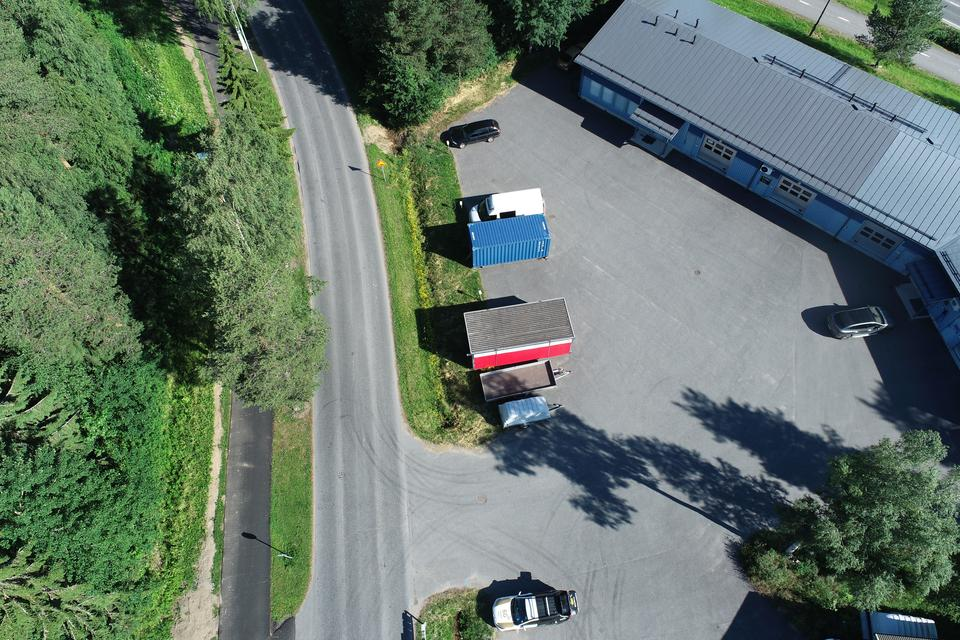intersection: (289, 399, 489, 628)
